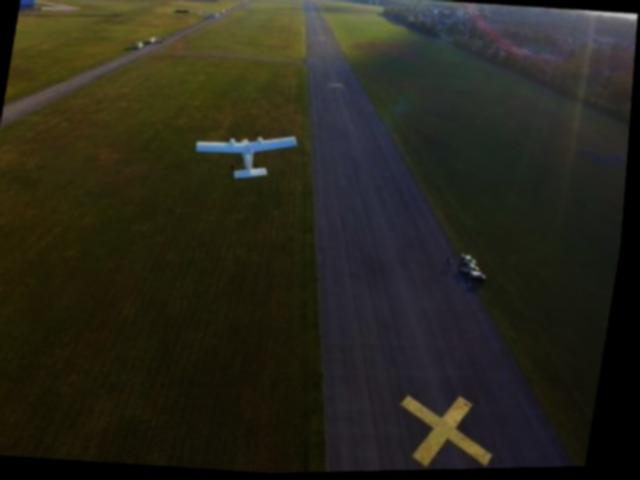uav: (193, 127, 301, 185)
